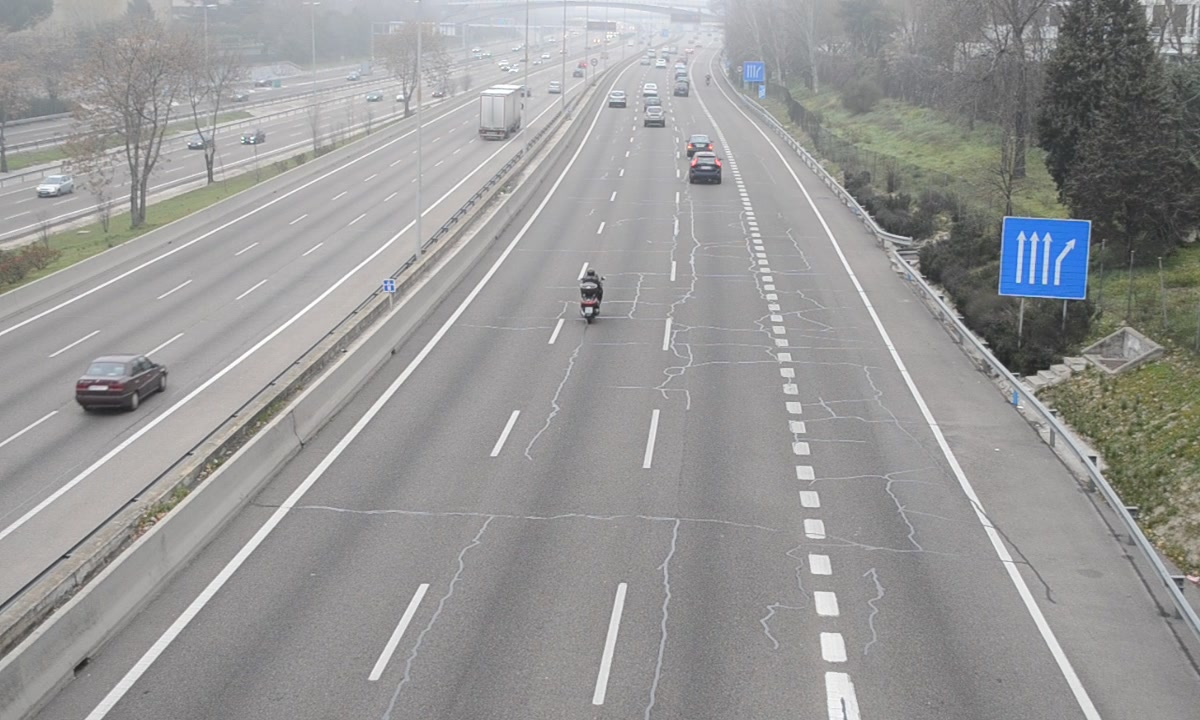car: (689, 151, 722, 184), (687, 134, 714, 154)
motorcycle: (578, 267, 604, 325)
